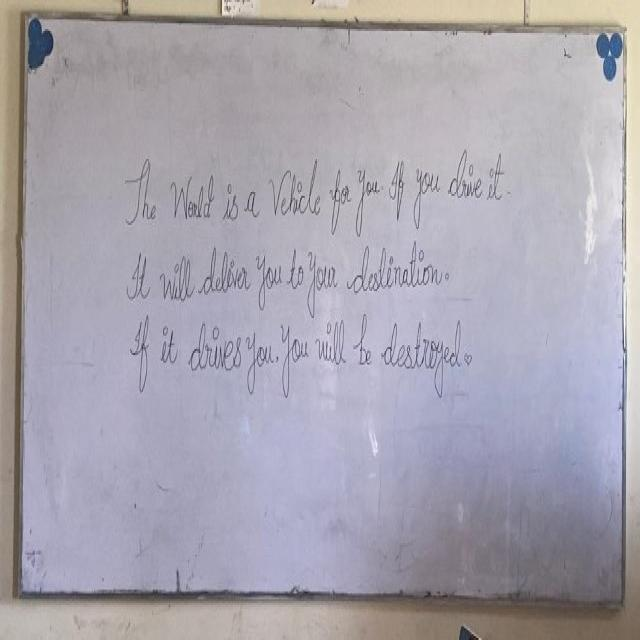White-board: (20, 11, 626, 610)
